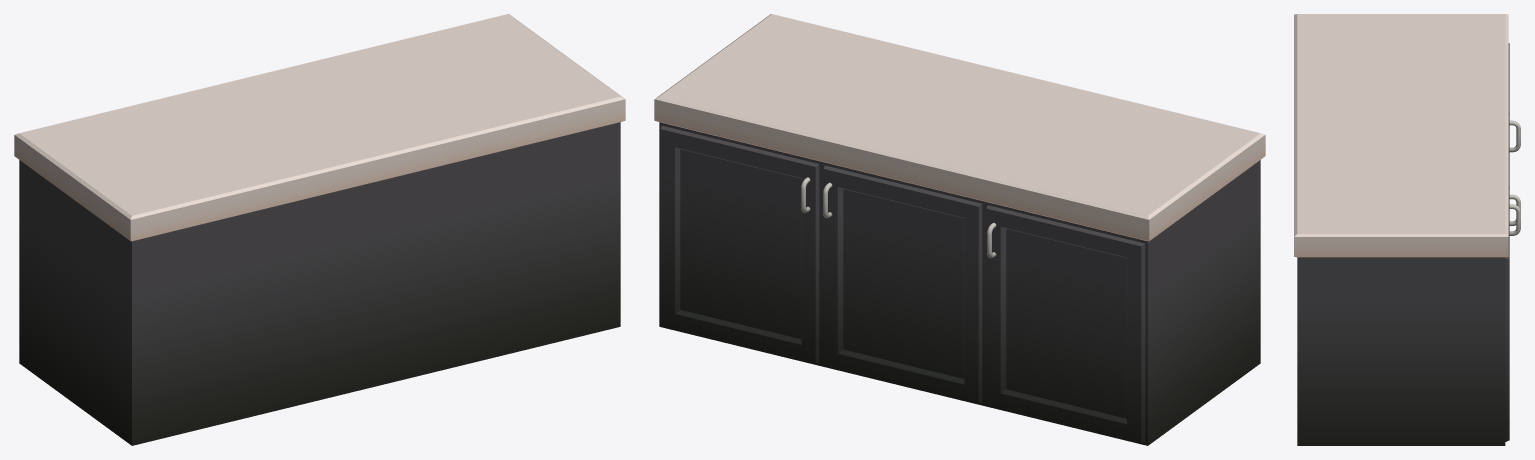
File: Counter.gltf
3 renders of one model, left to right at view 1: azimuth 30°, elevation 25°; view 2: azimuth 150°, elevation 25°; view 3: azimuth 270°, elevation 25°, orthographic. The views are drawn at different scales.
Parts seen in each view (by area): view 1: Counter; view 2: Counter; view 3: Counter.
Part boxes in pixels (left/top/right/bottom): Counter: left=14, top=14, right=625, bottom=445; Counter: left=654, top=14, right=1265, bottom=445; Counter: left=1294, top=14, right=1520, bottom=445.
Bounding box in the file's own units: 2.02 × 0.9 × 0.872.
Materials: 1 (1 with a texture image).
